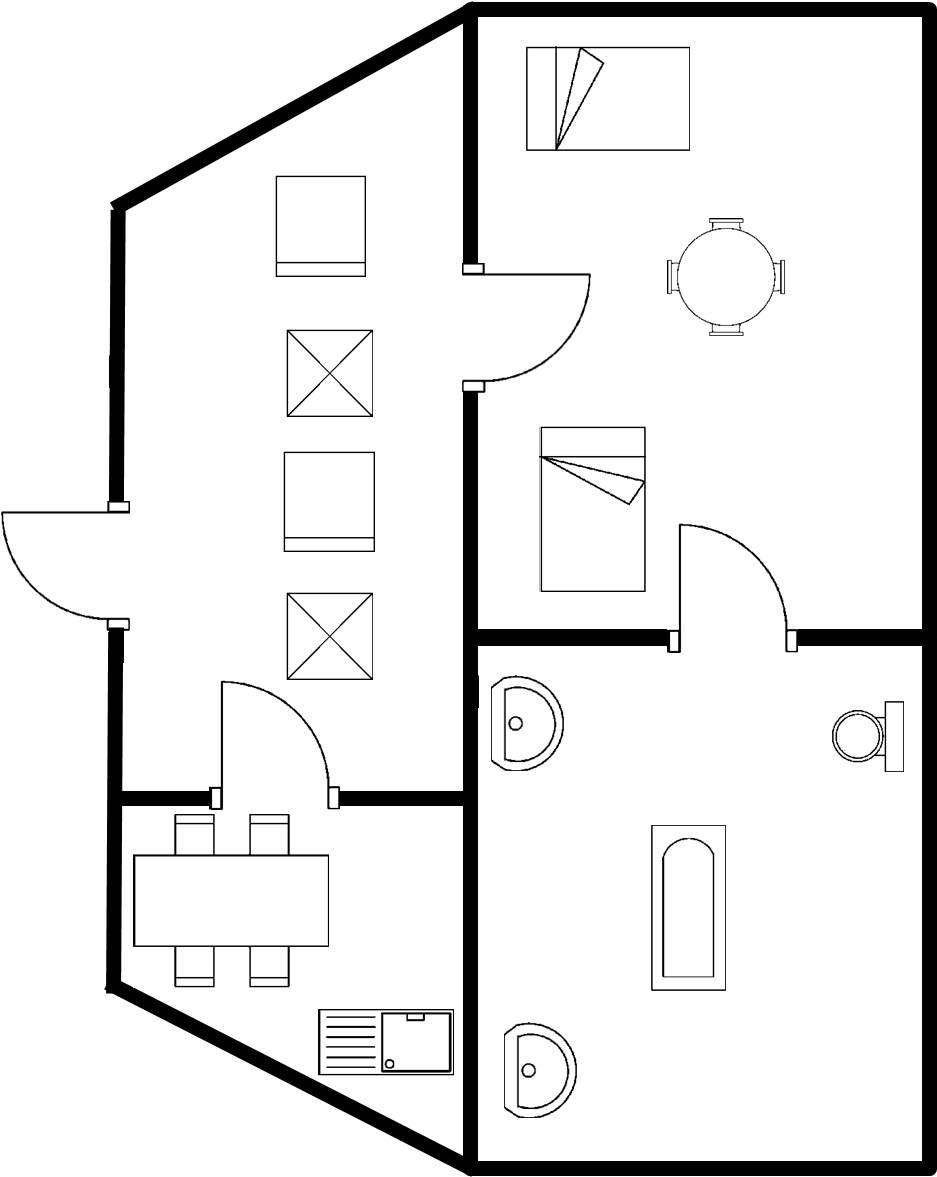bed: (530, 418, 656, 601), (515, 40, 696, 160)
dining_table: (125, 809, 341, 994)
round_table: (656, 207, 795, 342)
sink: (307, 1000, 460, 1083)
toilet: (819, 692, 911, 784)
tub: (638, 817, 740, 1003)
